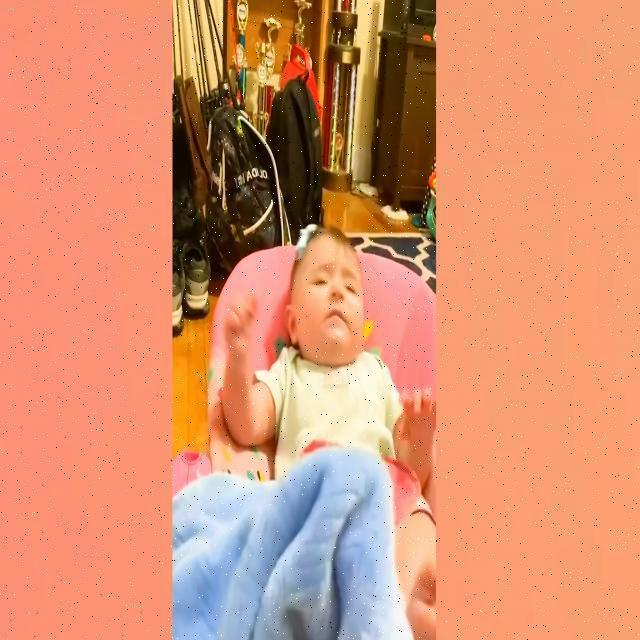child: (221, 219, 434, 640)
